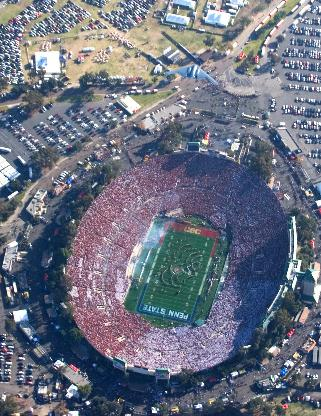B1: (162, 64, 217, 84)
